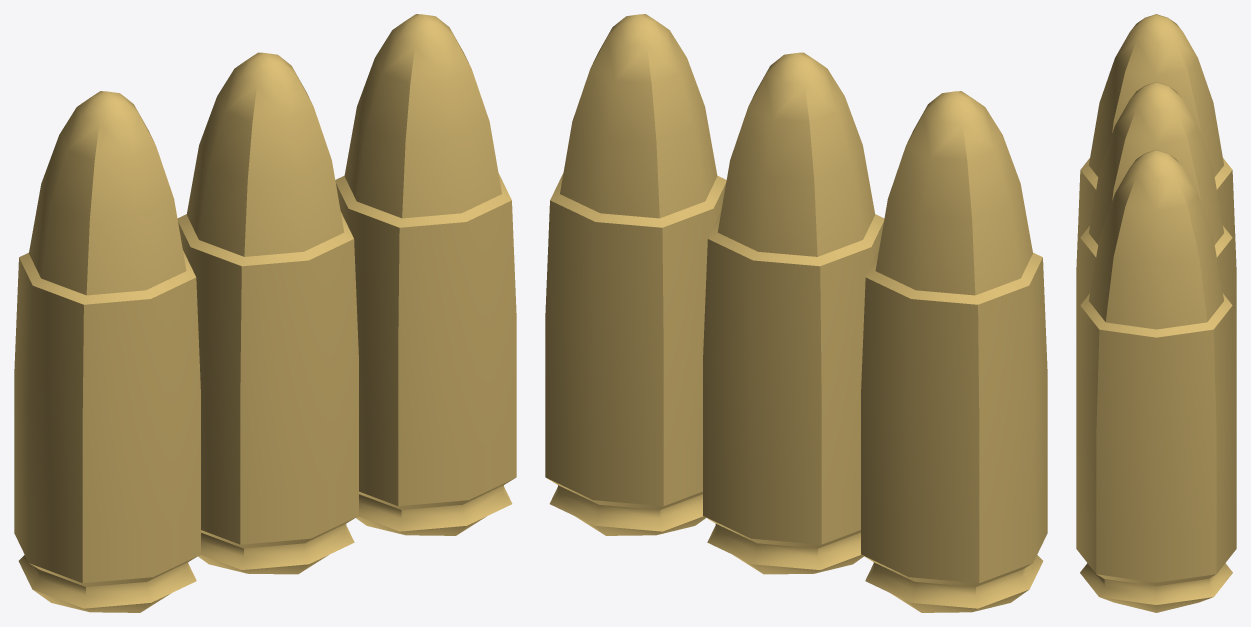
The model's file is pickup_power.glb.
The picture shows the model from 3 angles, left to right: view 1: azimuth 30°, elevation 25°; view 2: azimuth 150°, elevation 25°; view 3: azimuth 270°, elevation 25°; orthographic projection. The views are drawn at different scales.
Parts seen in each view (by area): view 1: body; view 2: body; view 3: body.
Part boxes in pixels (<box>): body: <box>14,14,516,612</box>; body: <box>545,14,1047,612</box>; body: <box>1076,14,1236,612</box>.
Bounding box in the file's own units: 0.9838 × 1 × 0.3279.
